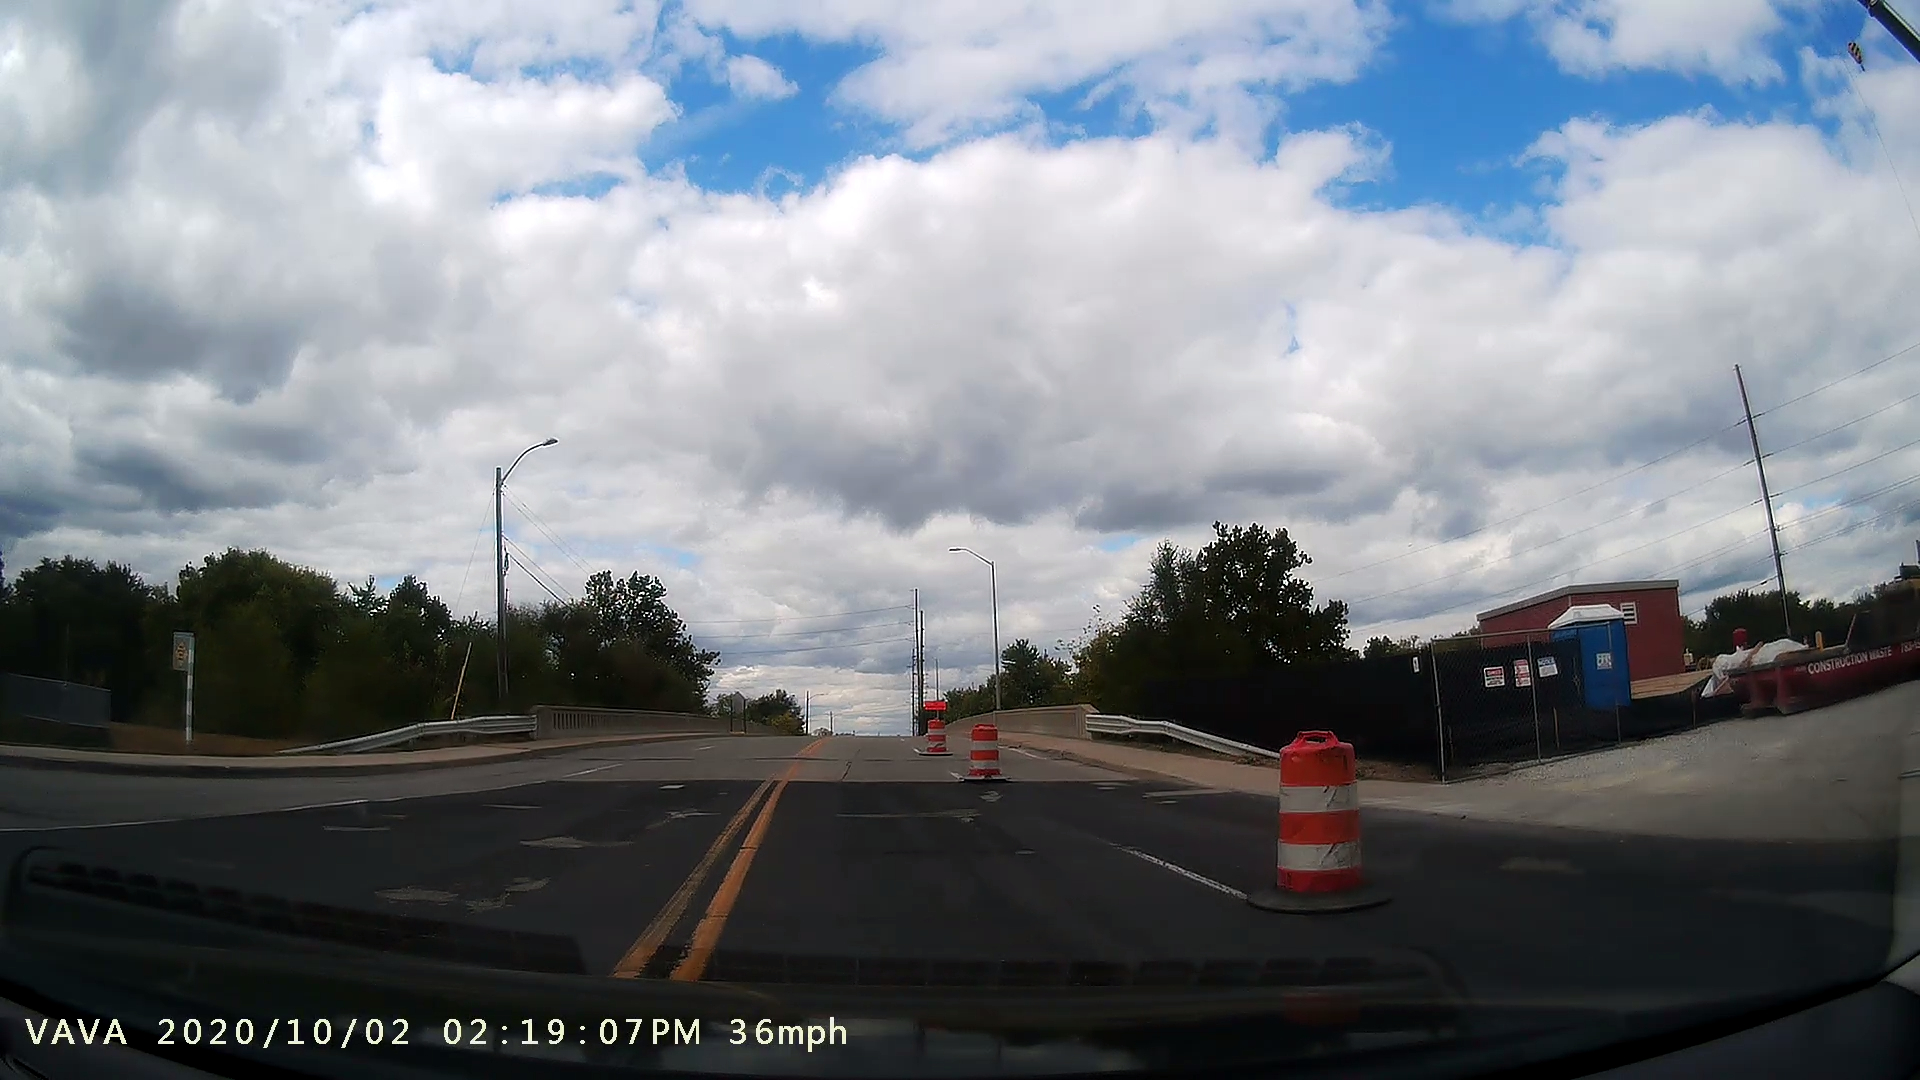const_barrel: (1222, 702, 1389, 918), (957, 712, 1027, 793), (907, 709, 961, 764)
